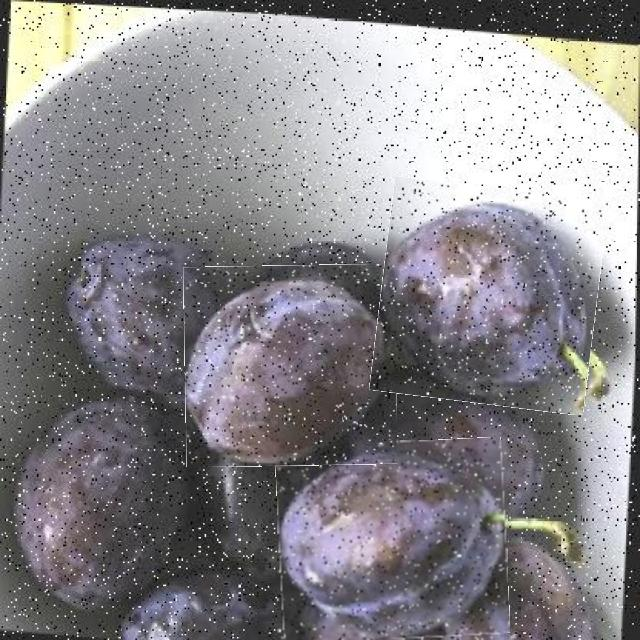plum: (375, 182, 602, 409), (277, 440, 508, 640), (184, 265, 397, 467)
